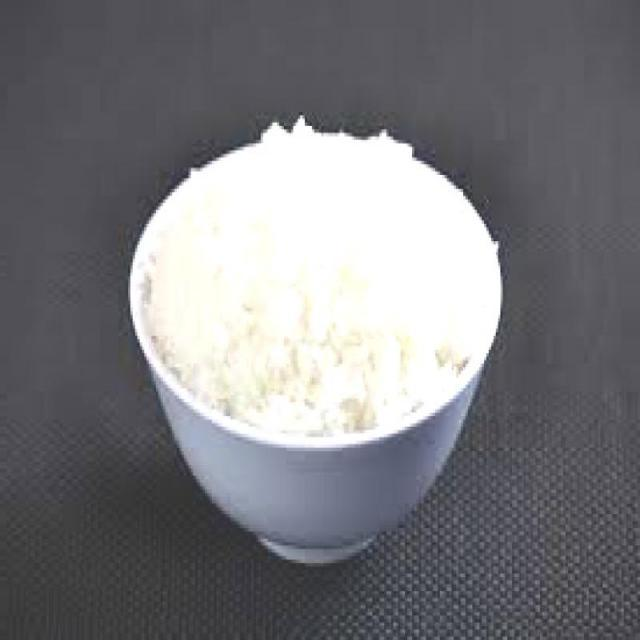rice: (145, 120, 491, 439)
